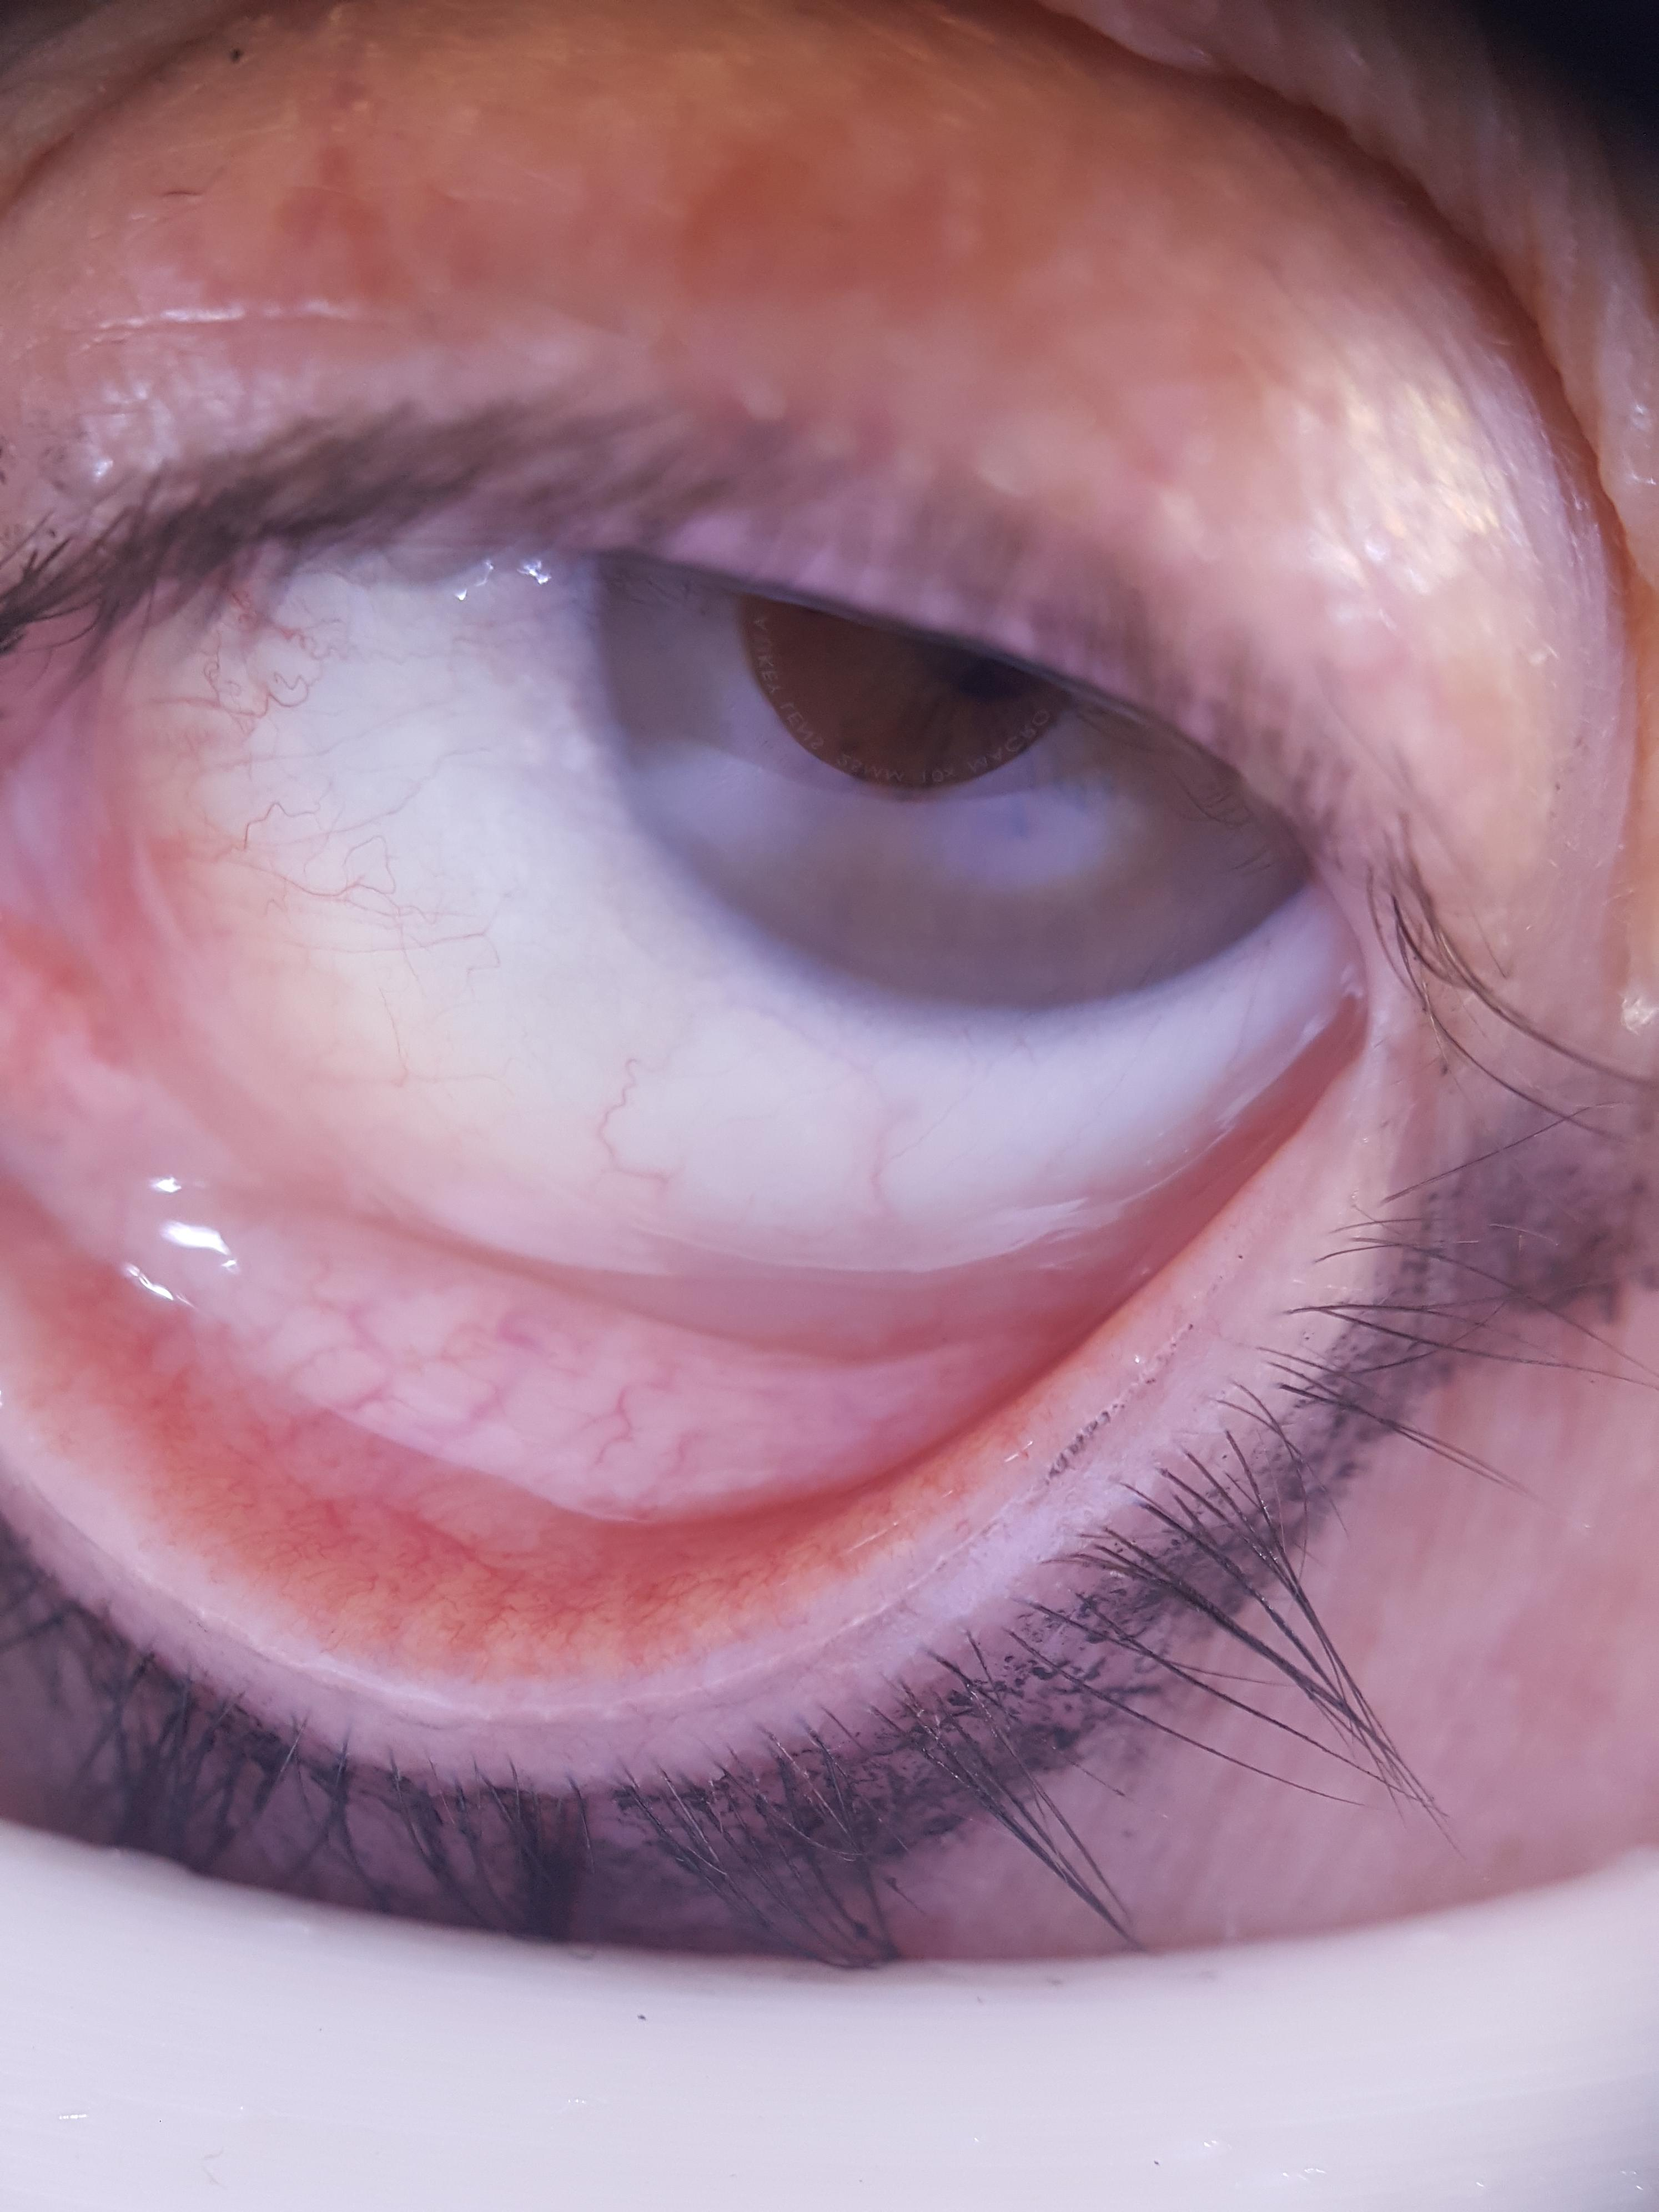forniceal: (0, 1010, 1206, 1527)
forniceal_palpebral: (0, 1007, 1215, 1663)
palpebral: (0, 1179, 1094, 1655)
